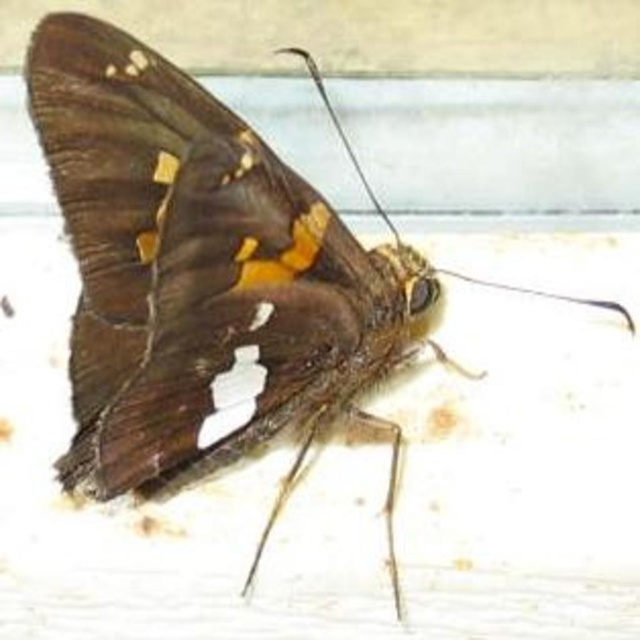Butterfly: (24, 7, 501, 578)
